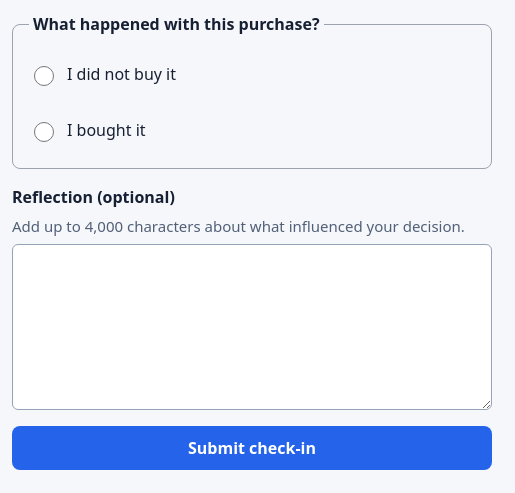
Test: CheckInForm › prevents repeated keyboard activation while submission is pending
Click the radio button labelled "I bought it". click: (44, 132)
box: [34,122,54,142]
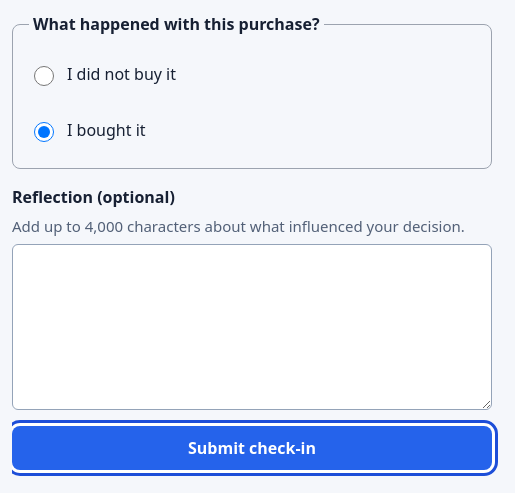
Press Enter Enter
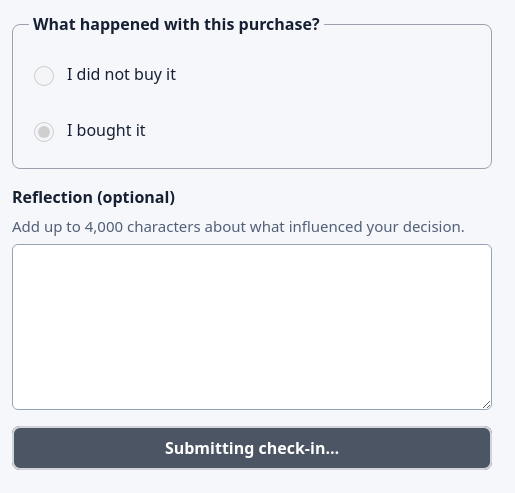
Expected: the button "Submitting check-in…" is disabled, [12,426,492,470]
